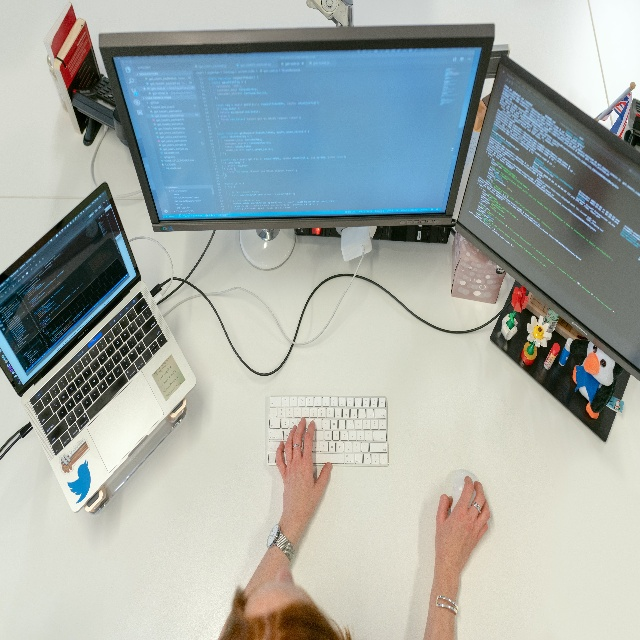Sin_guantes: (274, 415, 333, 525), (433, 474, 491, 566)
